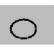no answer: (8, 16, 39, 41)
